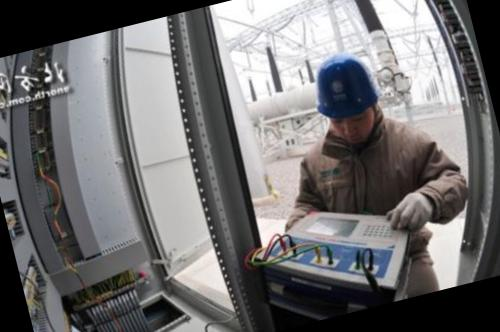person: (240, 31, 488, 323)
